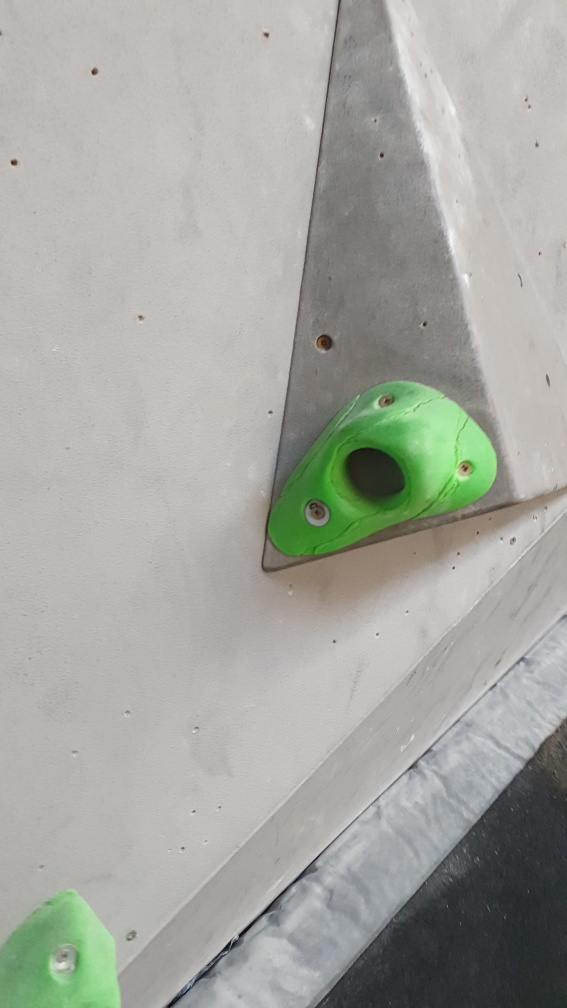Pocket: (261, 381, 501, 560)
